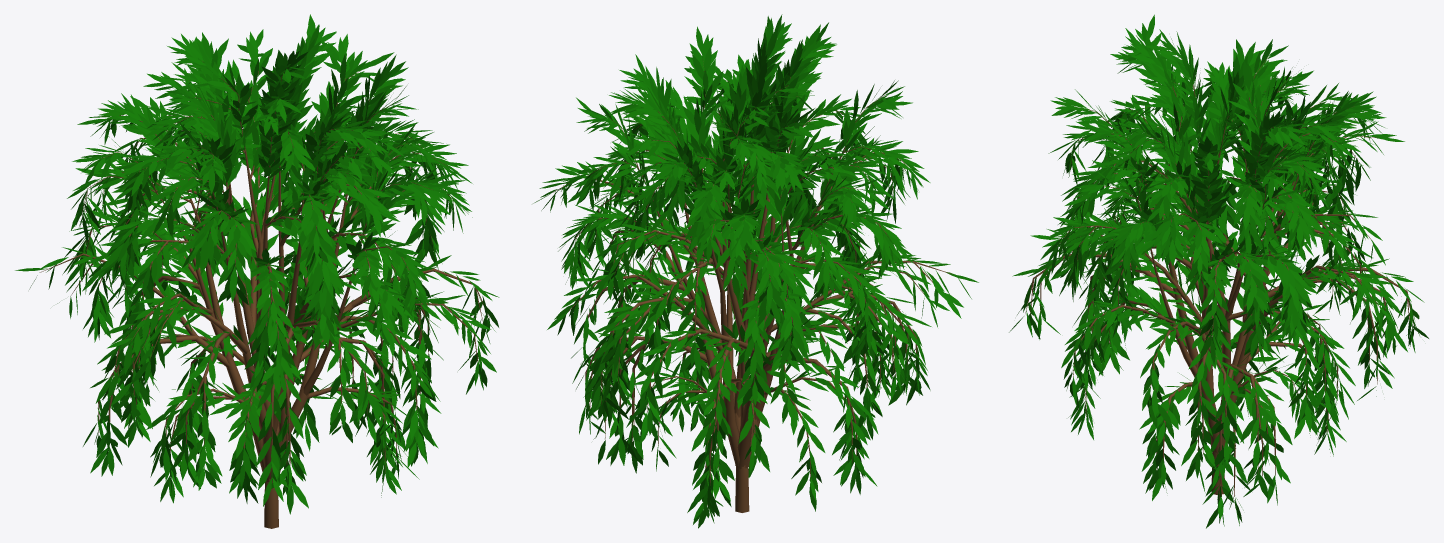
Rendered from Tree7 1.fbx.
The picture shows the model from 3 angles, left to right: view 1: azimuth 30°, elevation 25°; view 2: azimuth 150°, elevation 25°; view 3: azimuth 270°, elevation 25°; orthographic projection. The views are drawn at different scales.
Parts seen in each view (by area): view 1: leaves, tree; view 2: leaves, tree; view 3: leaves, tree.
Part boxes in pixels (x1,y1,x2,y2): leaves: (15, 14, 499, 514); tree: (39, 61, 488, 528); leaves: (533, 14, 978, 528); tree: (553, 59, 952, 512); leaves: (1009, 14, 1428, 528); tree: (1025, 58, 1414, 499).
Size of the model in its own units: 551 by 651 by 542.
